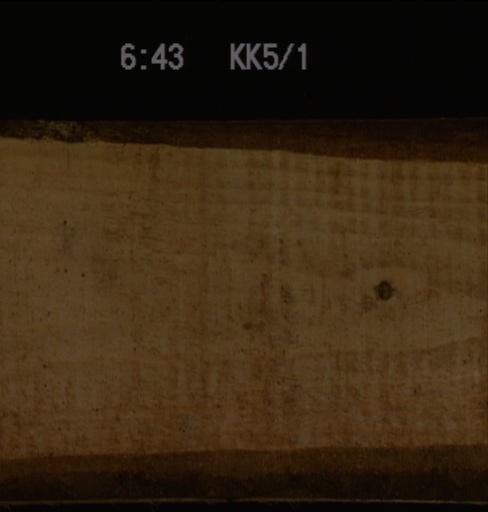dry_knot: (375, 277, 390, 299)
wave: (0, 441, 486, 502), (0, 118, 486, 162)
